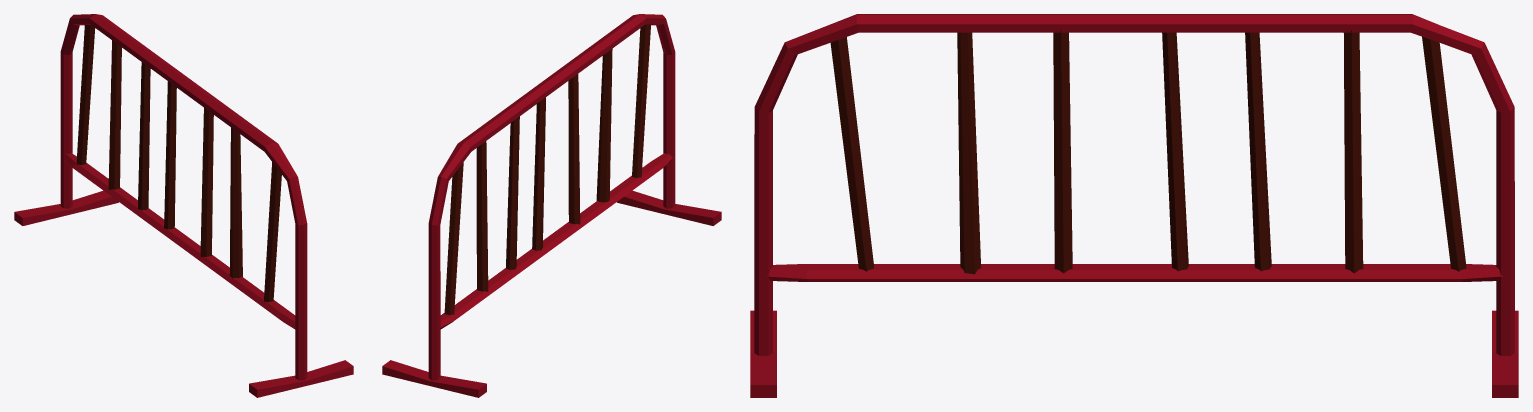
File: Reja.fbx
3 renders of one model, left to right at view 1: azimuth 30°, elevation 25°; view 2: azimuth 150°, elevation 25°; view 3: azimuth 270°, elevation 25°, orthographic. The views are drawn at different scales.
Visible parts, largest first — view 1: Road Closed-02; view 2: Road Closed-02; view 3: Road Closed-02.
Boxes of the visible parts, x1=… form: Road Closed-02: x1=14, y1=14, x2=353, y2=397; Road Closed-02: x1=382, y1=14, x2=721, y2=397; Road Closed-02: x1=750, y1=14, x2=1518, y2=397.
Size of the model in its own units: 58.19 by 126 by 254.
1 material, 1 textured.
